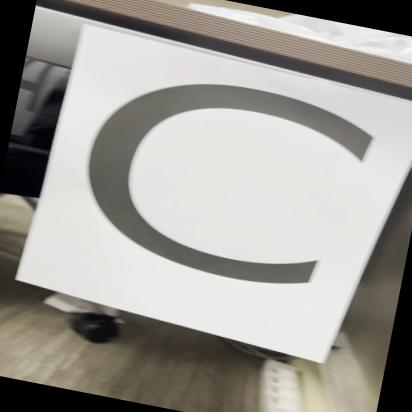seat: (44, 24, 402, 354)
